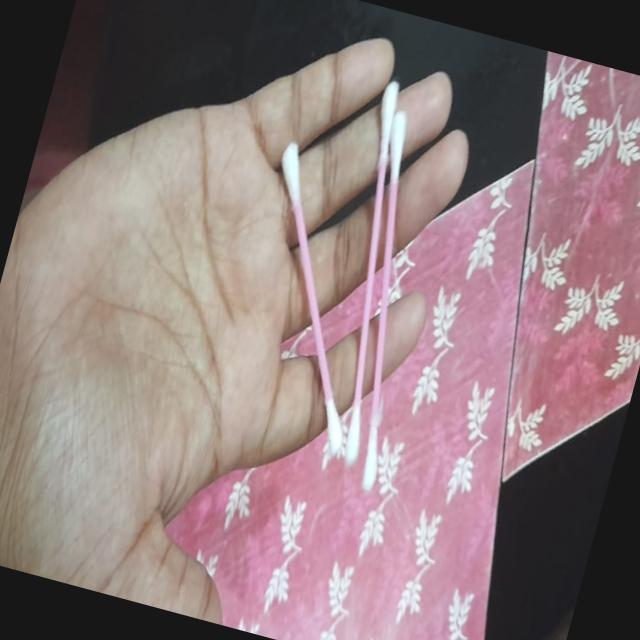Earbud - Non Recyclable: (201, 52, 483, 496)
